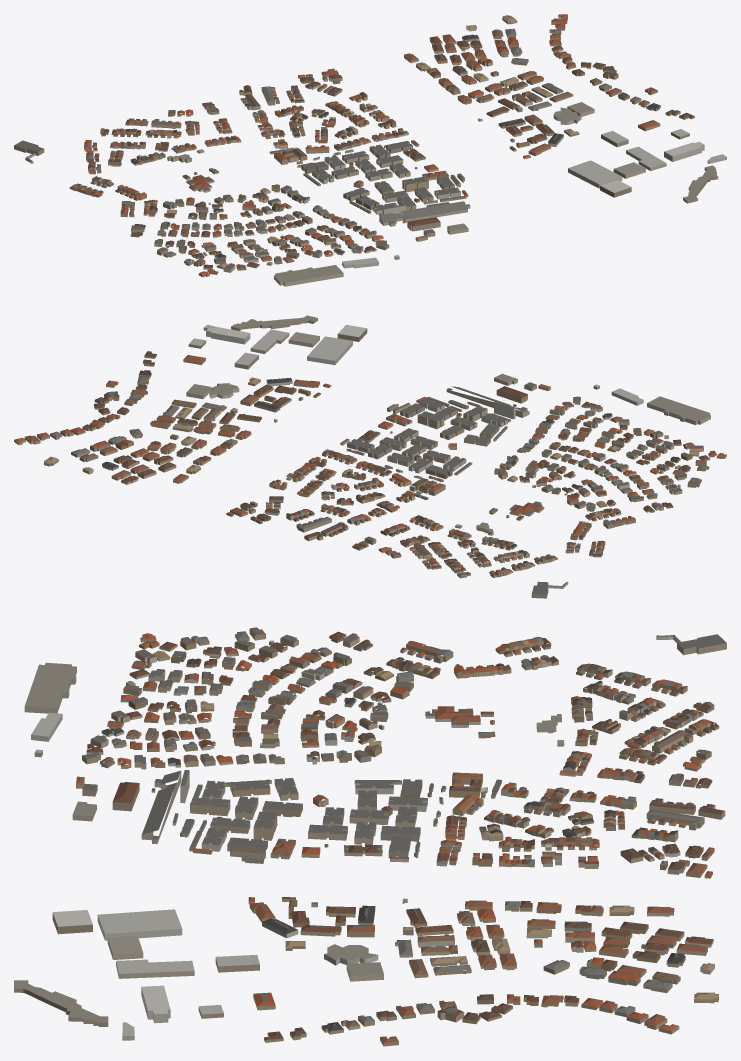
3 views of the same model, one above another, from view 1: azimuth 30°, elevation 25°; view 2: azimuth 150°, elevation 25°; view 3: azimuth 270°, elevation 25° (orthographic). The views are drawn at different scales.
Parts seen in each view (by area): view 1: buildings_r2_c7_lod1; view 2: buildings_r2_c7_lod1; view 3: buildings_r2_c7_lod1.
Boxes of the visible parts, x1,y1,x2,y2 form: buildings_r2_c7_lod1: (14,14,726,286); buildings_r2_c7_lod1: (14,315,726,598); buildings_r2_c7_lod1: (14,627,726,1046).
Size of the model in its own units: 1144 by 39.76 by 828.
